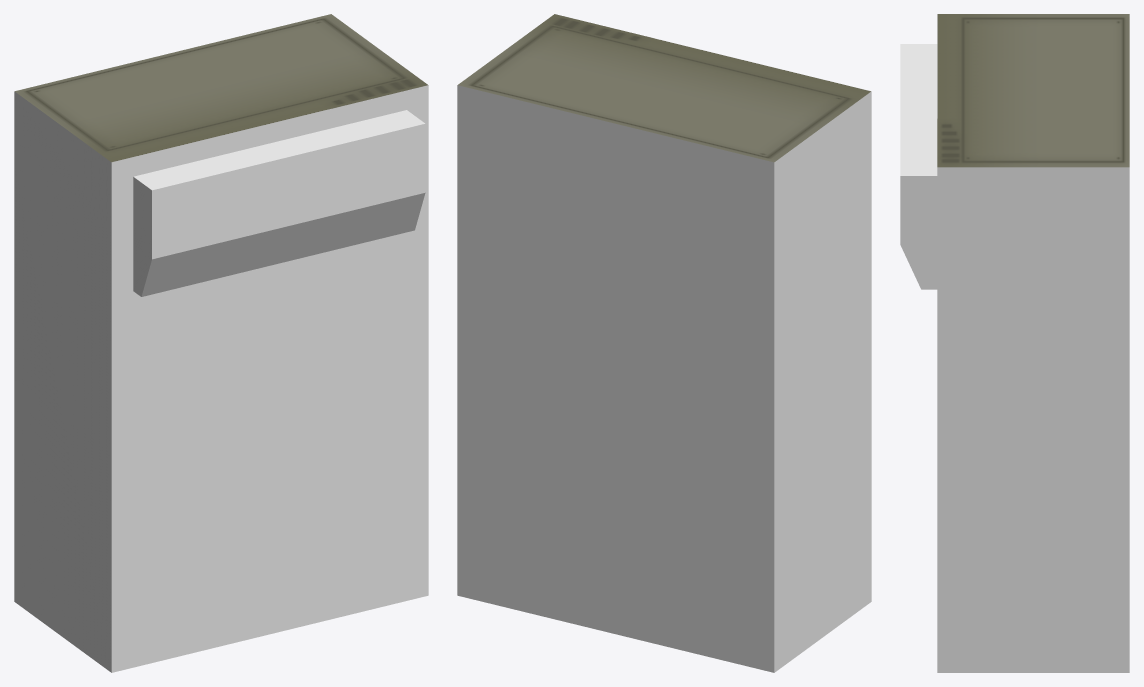
Rendered from OutBox2.fbx.
3 renders of one model, left to right at view 1: azimuth 30°, elevation 25°; view 2: azimuth 150°, elevation 25°; view 3: azimuth 270°, elevation 25°, orthographic.
Visible parts, largest first — view 1: Cube.007; view 2: Cube.007; view 3: Cube.007.
Part boxes in pixels (x1=…): Cube.007: x1=14, y1=14, x2=428, y2=672; Cube.007: x1=457, y1=14, x2=871, y2=672; Cube.007: x1=900, y1=14, x2=1129, y2=672.
Bounding box in the file's own units: 64.96 × 100 × 41.15.
